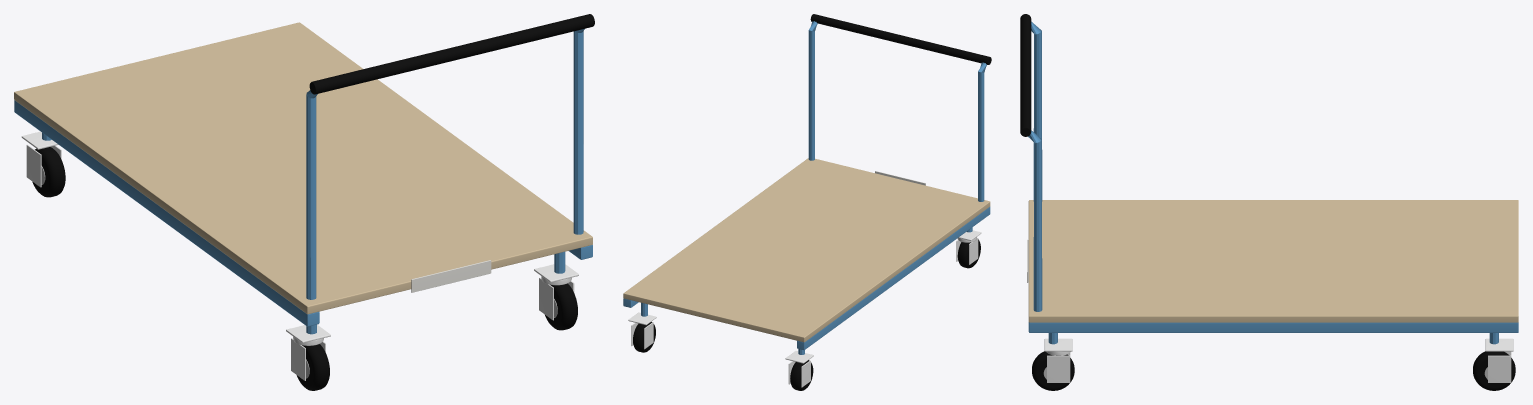
File: industrial.yard.trolley_flatbed.glb
3 renders of one model, left to right at view 1: azimuth 30°, elevation 25°; view 2: azimuth 150°, elevation 25°; view 3: azimuth 270°, elevation 25°, orthographic. The views are drawn at different scales.
Parts seen in each view (by area): view 1: main__timber_dca, main__paint_69c, main__rubber, main__chrome_eee, main__paint_eee; view 2: main__timber_dca, main__paint_69c, main__rubber, main__chrome_eee; view 3: main__timber_dca, main__paint_69c, main__rubber, main__chrome_eee.
Boxes of the visible parts, box(x1,y1,x2,y2) form: main__timber_dca: box(14, 22, 592, 314); main__paint_69c: box(14, 28, 592, 334); main__rubber: box(32, 14, 594, 390); main__chrome_eee: box(21, 131, 578, 380); main__paint_eee: box(411, 260, 491, 292); main__timber_dca: box(623, 158, 990, 342); main__paint_69c: box(623, 21, 990, 354); main__rubber: box(633, 14, 991, 390); main__chrome_eee: box(628, 230, 981, 387); main__timber_dca: box(1028, 200, 1518, 322); main__paint_69c: box(1028, 21, 1518, 344); main__rubber: box(1020, 14, 1515, 390); main__chrome_eee: box(1044, 338, 1513, 382).
Bounding box in the file's own units: 0.9 × 0.968 × 1.63.
